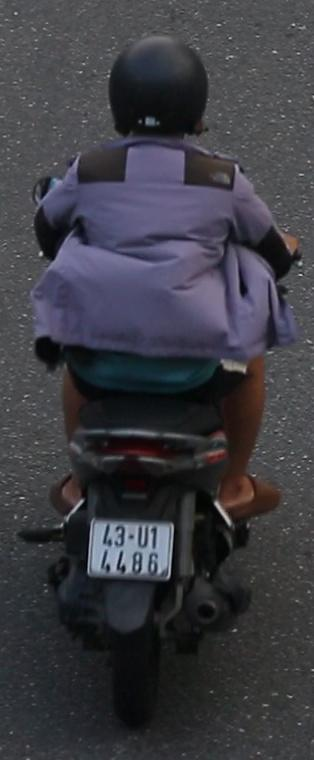LP: (85, 514, 177, 590)
helmet: (101, 30, 215, 152)
